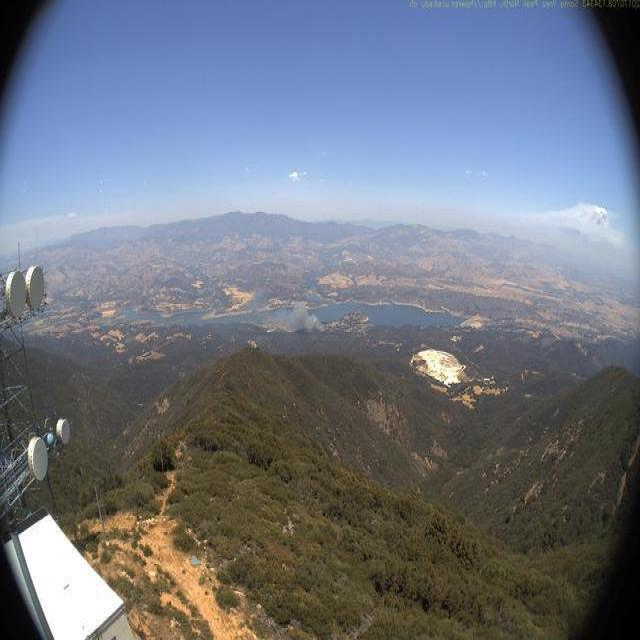Smoke: (268, 293, 332, 336)
